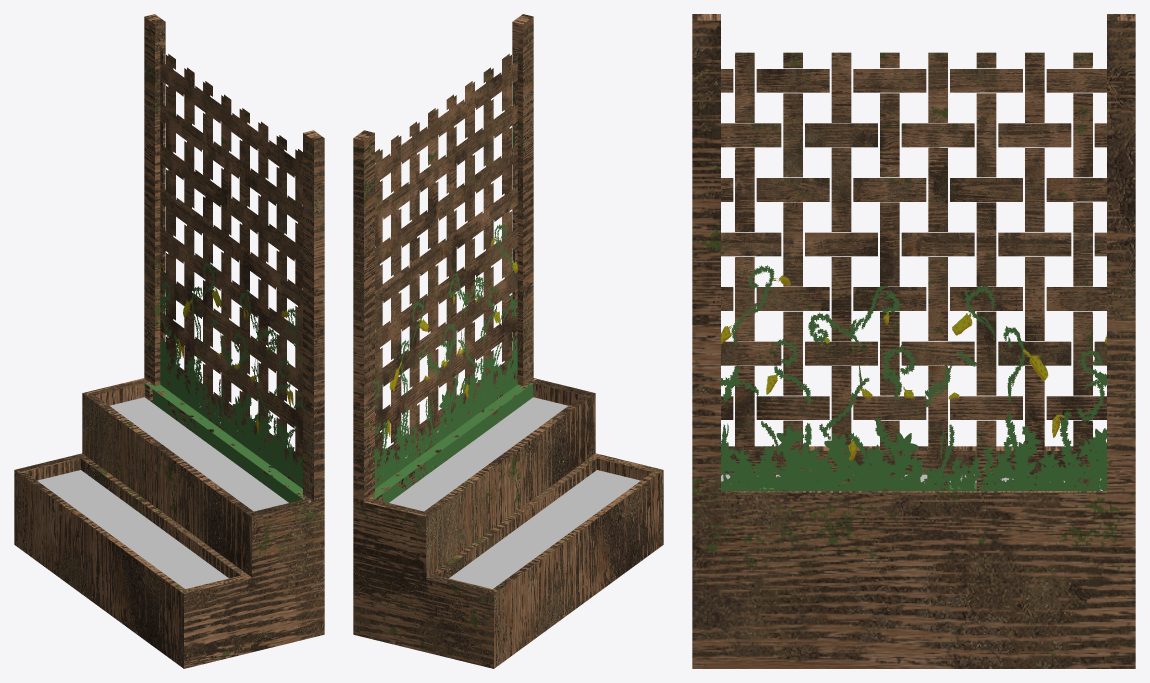
The model's file is m_flowerTrelis.fbx.
3 renders of one model, left to right at view 1: azimuth 30°, elevation 25°; view 2: azimuth 150°, elevation 25°; view 3: azimuth 270°, elevation 25°, orthographic. The views are drawn at different scales.
Parts seen in each view (by area): view 1: pCube351; view 2: pCube351; view 3: pCube351.
Part boxes in pixels (x1=…): pCube351: x1=14, y1=14, x2=324, y2=668; pCube351: x1=353, y1=14, x2=663, y2=668; pCube351: x1=692, y1=14, x2=1135, y2=668.
Bounding box in the file's own units: 207 × 699 × 433.
